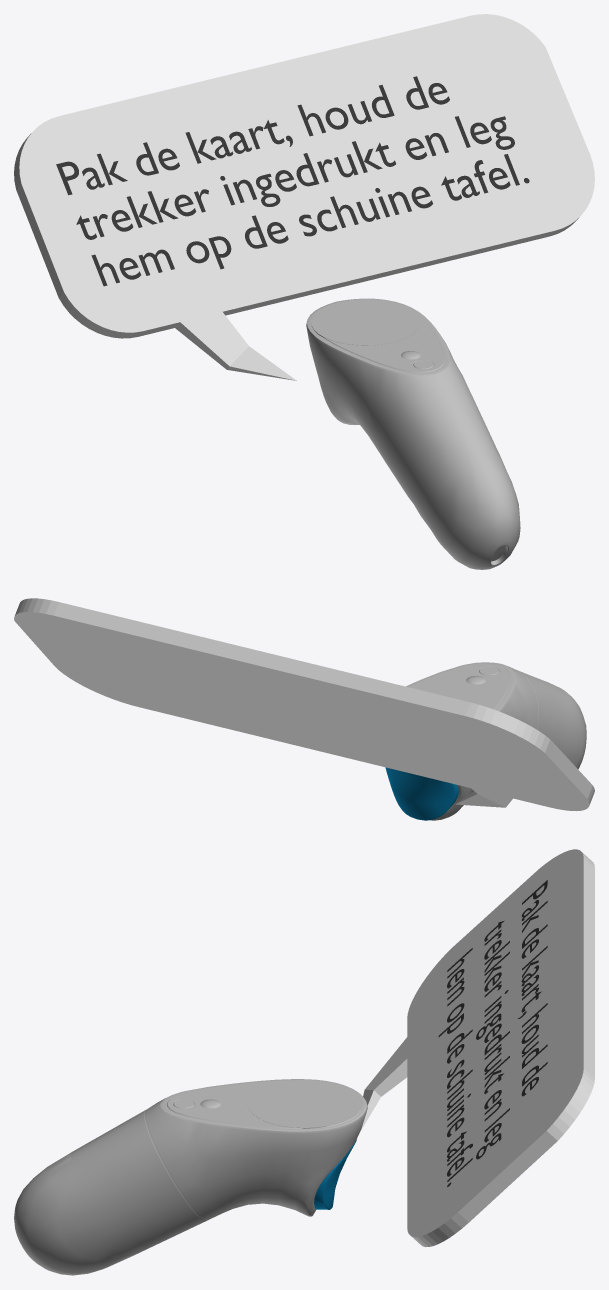
File: REMOTE-tutorial-8-grab-map.fbx
3 views of the same model, one above another, from view 1: azimuth 30°, elevation 25°; view 2: azimuth 150°, elevation 25°; view 3: azimuth 270°, elevation 25° (orthographic). The views are drawn at different scales.
Visible parts, largest first — view 1: Curve, Circle, Text; view 2: Curve, Circle; view 3: Curve, Circle, Text.
Boxes of the visible parts, x1,y1,x2,y2 form: Curve: [14, 14, 594, 380]; Circle: [306, 298, 520, 569]; Text: [56, 76, 529, 286]; Curve: [14, 598, 594, 810]; Circle: [385, 662, 586, 820]; Curve: [360, 849, 594, 1247]; Circle: [14, 1079, 367, 1275]; Text: [438, 880, 547, 1186].
Bounding box in the file's own units: 426 × 241 × 388.
